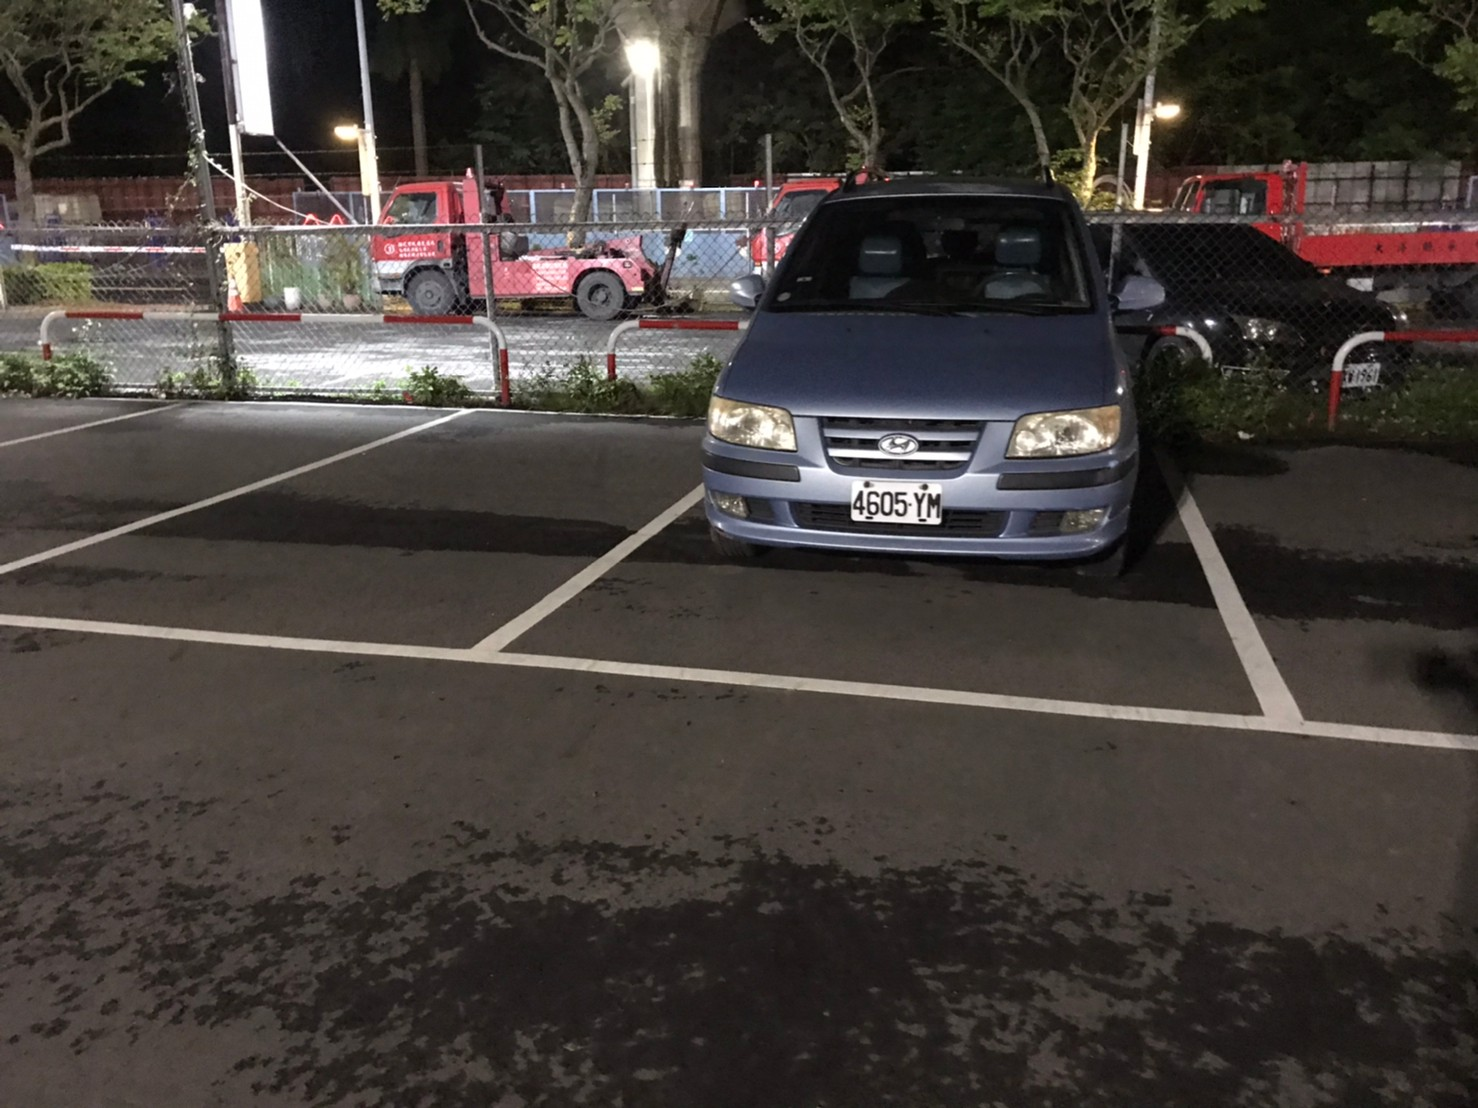LP: (847, 480, 948, 530)
